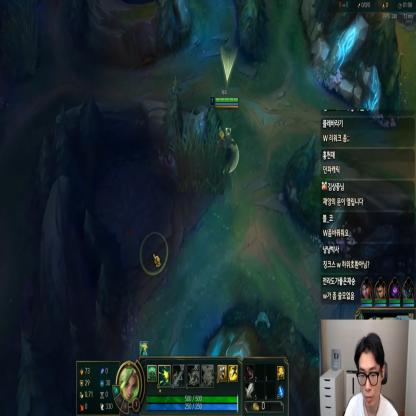streamer: (344, 331, 399, 416)
